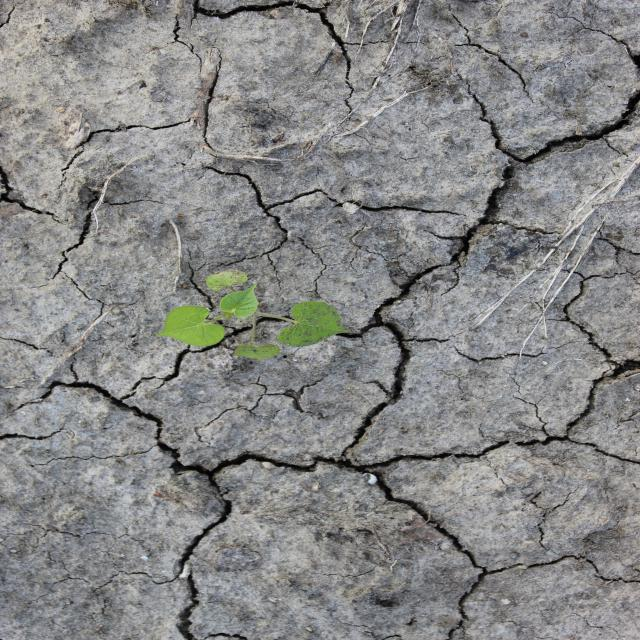MorningGlory: (153, 268, 359, 362)
